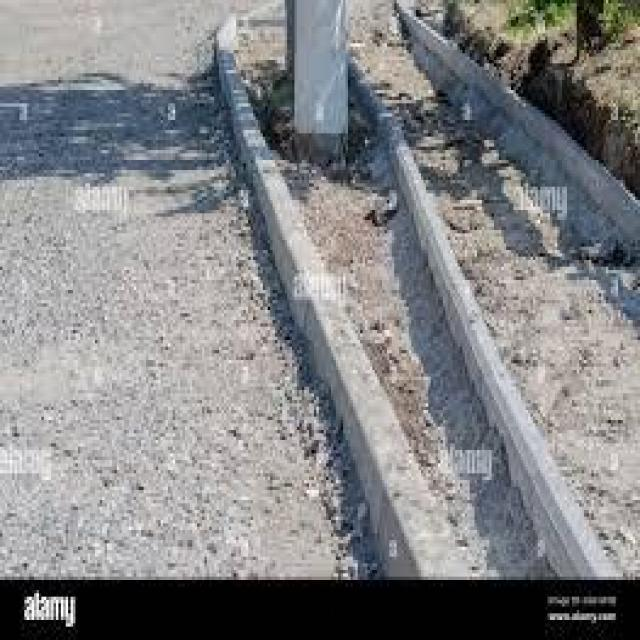curb: (225, 74, 456, 569), (393, 112, 614, 569)
